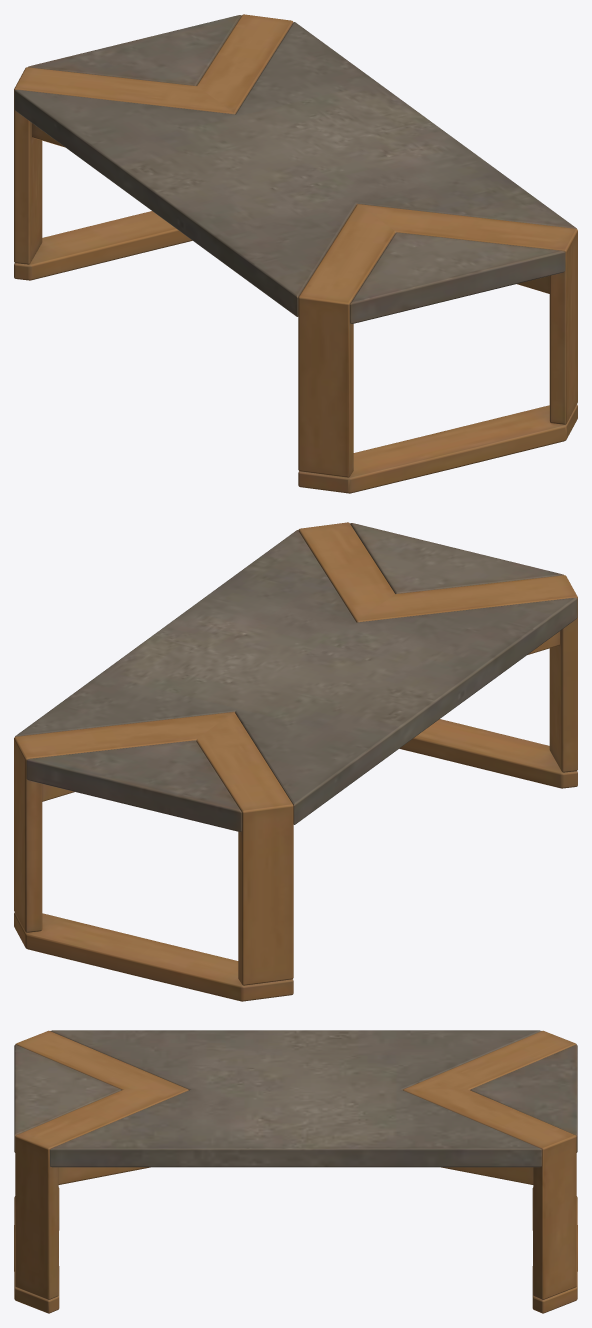
Rendered from m_modern_coffee_table_01.glb.
3 renders of one model, top to bottom at view 1: azimuth 30°, elevation 25°; view 2: azimuth 150°, elevation 25°; view 3: azimuth 270°, elevation 25°, orthographic. The views are drawn at different scales.
Parts seen in each view (by area): view 1: modern_coffee_table_01; view 2: modern_coffee_table_01; view 3: modern_coffee_table_01.
Part boxes in pixels (<box>): modern_coffee_table_01: <box>14,14,577,493</box>; modern_coffee_table_01: <box>14,522,577,1001</box>; modern_coffee_table_01: <box>14,1030,577,1313</box>.
Bounding box in the file's own units: 0.5999 × 0.39 × 1.2.
Materials: 1 (1 with a texture image).
